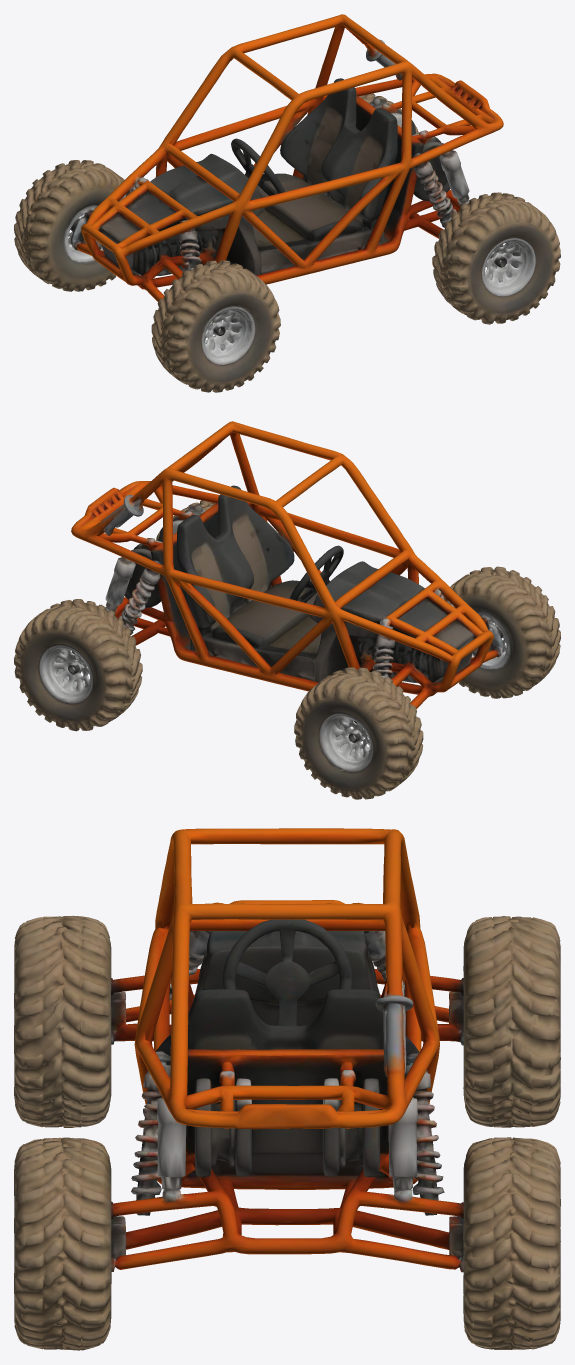
Rendered from 083_dune_buggy_orange.glb.
3 views of the same model, one above another, from view 1: azimuth 30°, elevation 25°; view 2: azimuth 150°, elevation 25°; view 3: azimuth 270°, elevation 25° (orthographic). The views are drawn at different scales.
Visible parts, largest first — view 1: geometry_0; view 2: geometry_0; view 3: geometry_0.
Part boxes in pixels (x1,y1,x2,y2): geometry_0: (14,14,560,392); geometry_0: (14,421,560,799); geometry_0: (14,828,560,1350).
Bounding box in the file's own units: 3.5 × 2.06 × 2.59.
Materials: 1 (1 with a texture image).
